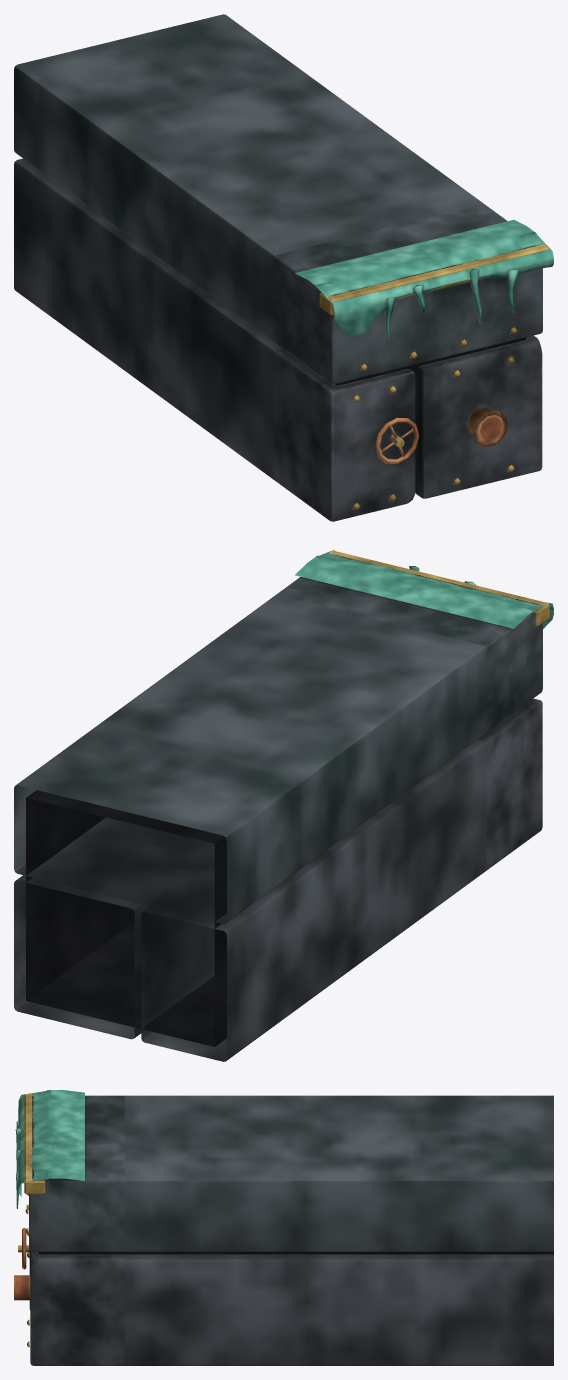
File: ClockLung_Top_B.fbx
3 renders of one model, top to bottom at view 1: azimuth 30°, elevation 25°; view 2: azimuth 150°, elevation 25°; view 3: azimuth 270°, elevation 25°, orthographic. The views are drawn at different scales.
Parts seen in each view (by area): view 1: ClockLung_Top_B; view 2: ClockLung_Top_B; view 3: ClockLung_Top_B.
Part boxes in pixels (x1,y1,x2,y2): ClockLung_Top_B: (14,14,553,521); ClockLung_Top_B: (14,550,553,1061); ClockLung_Top_B: (14,1090,553,1365).
Bounding box in the file's own units: 1 × 1.01 × 2.58.
